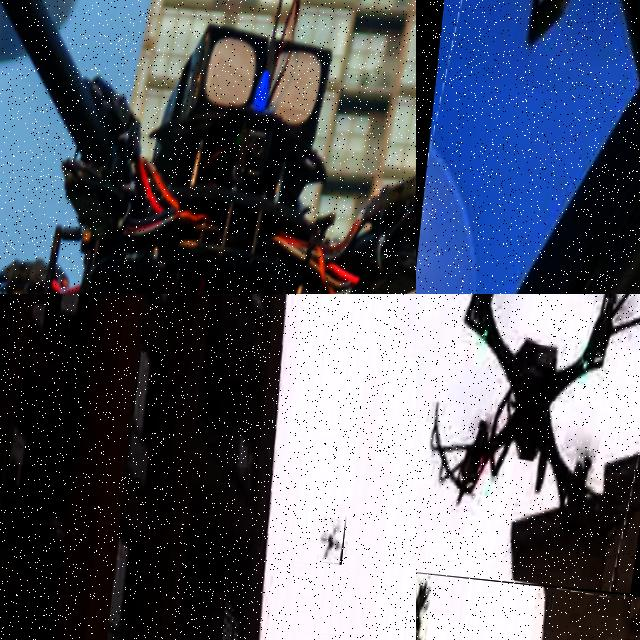drone: (0, 0, 416, 294), (416, 294, 640, 596), (416, 0, 640, 294), (317, 512, 346, 564)
